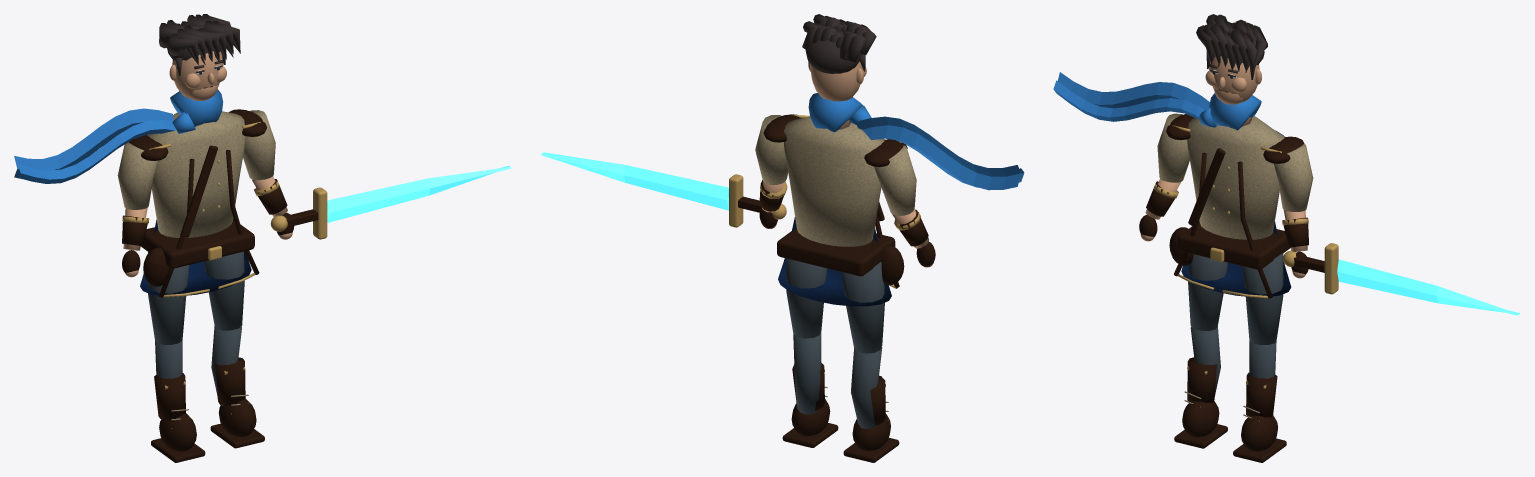
The model's file is kael-v2.glb.
3 renders of one model, left to right at view 1: azimuth 30°, elevation 25°; view 2: azimuth 150°, elevation 25°; view 3: azimuth 330°, elevation 25°, orthographic. The views are drawn at different scales.
Parts seen in each view (by area): view 1: Linen shirt, Scarf collar, Sword grip, Calf.001, Calf, Trouser thigh.001, Trouser thigh, Soft linen sleeve, Soft linen sleeve.001, Forearm, Forearm.001; view 2: Linen shirt, Scarf collar, Sword grip, Calf, Calf.001, Trouser thigh, Trouser thigh.001, Soft linen sleeve, Soft linen sleeve.001, Forearm, Forearm.001; view 3: Linen shirt, Scarf collar, Sword grip, Calf, Calf.001, Trouser thigh.001, Trouser thigh, Soft linen sleeve.001, Soft linen sleeve, Forearm, Forearm.001.
Part boxes in pixels (left/top/right/bottom): Linen shirt: left=129, top=14, right=266, bottom=297; Scarf collar: left=14, top=89, right=223, bottom=183; Sword grip: left=270, top=166, right=511, bottom=239; Calf.001: left=210, top=326, right=264, bottom=448; Calf: left=151, top=340, right=205, bottom=462; Trouser thigh.001: left=204, top=251, right=244, bottom=330; Trouser thigh: left=148, top=252, right=189, bottom=344; Soft linen sleeve: left=117, top=142, right=157, bottom=209; Soft linen sleeve.001: left=243, top=110, right=275, bottom=180; Forearm: left=122, top=208, right=149, bottom=277; Forearm.001: left=252, top=176, right=294, bottom=239; Linen shirt: left=763, top=14, right=907, bottom=306; Scarf collar: left=808, top=93, right=1024, bottom=190; Sword grip: left=541, top=152, right=786, bottom=227; Calf: left=843, top=347, right=899, bottom=462; Calf.001: left=782, top=332, right=838, bottom=447; Trouser thigh: left=841, top=262, right=884, bottom=353; Trouser thigh.001: left=786, top=258, right=827, bottom=338; Soft linen sleeve: left=874, top=145, right=916, bottom=215; Soft linen sleeve.001: left=755, top=115, right=788, bottom=184; Forearm: left=892, top=209, right=935, bottom=267; Forearm.001: left=759, top=180, right=787, bottom=228; Linen shirt: left=1166, top=14, right=1304, bottom=298; Scarf collar: left=1053, top=72, right=1261, bottom=130; Sword grip: left=1283, top=243, right=1519, bottom=315; Calf: left=1174, top=326, right=1227, bottom=448; Calf.001: left=1233, top=341, right=1286, bottom=462; Trouser thigh.001: left=1242, top=253, right=1283, bottom=344; Trouser thigh: left=1188, top=254, right=1227, bottom=330; Soft linen sleeve.001: left=1274, top=144, right=1313, bottom=211; Soft linen sleeve: left=1157, top=113, right=1189, bottom=182; Forearm: left=1139, top=179, right=1180, bottom=241; Forearm.001: left=1282, top=210, right=1308, bottom=278.
Bounding box in the file's own units: 2 × 1.67 × 0.285.
11 materials, 3 textured.
